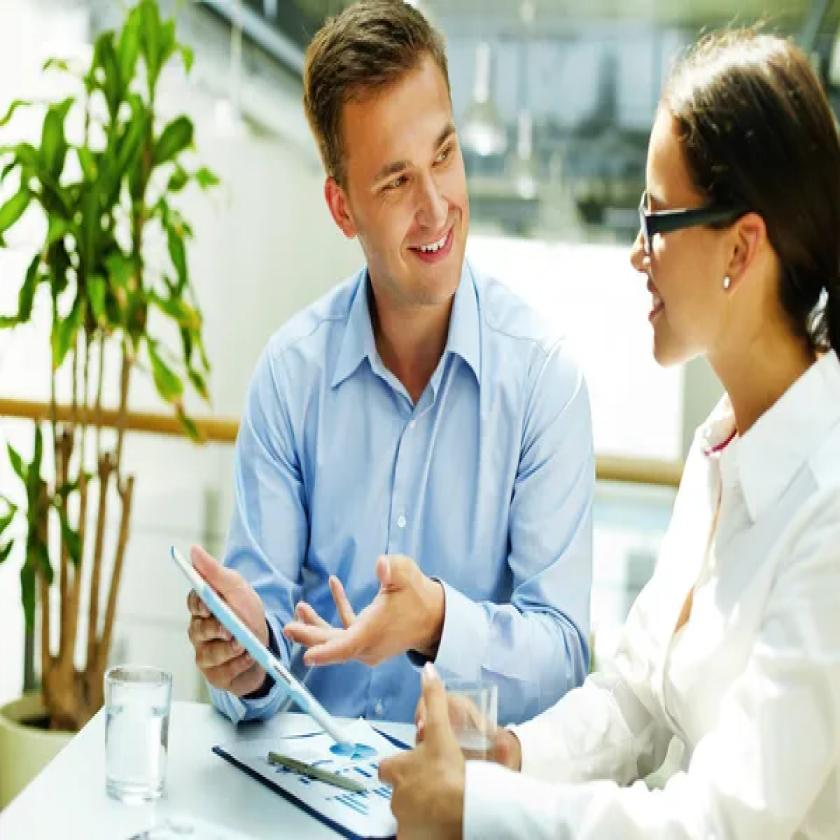Sin_casco: (633, 21, 840, 380), (304, 0, 476, 323)
